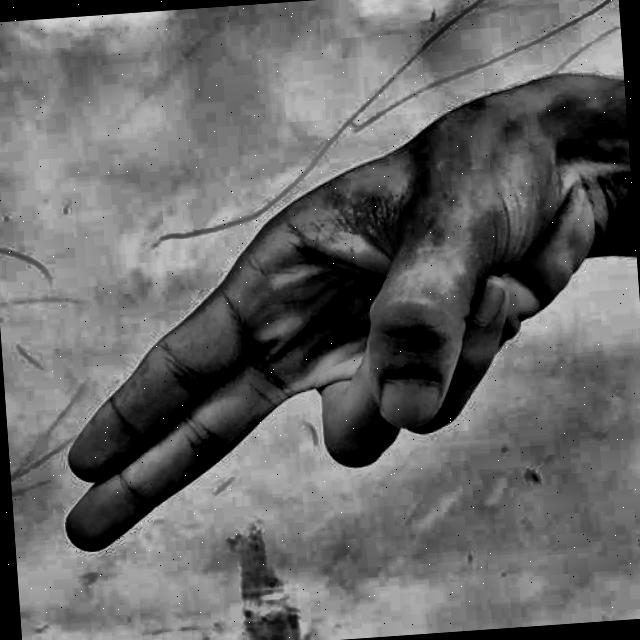Ha: (20, 76, 630, 611)
